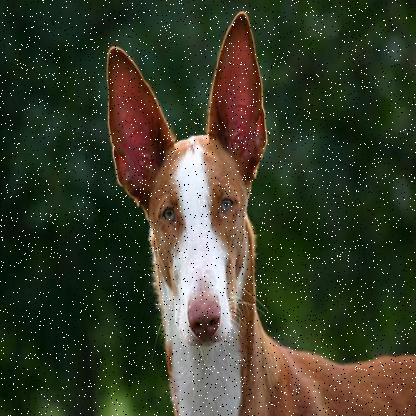dog: (99, 5, 393, 415)
